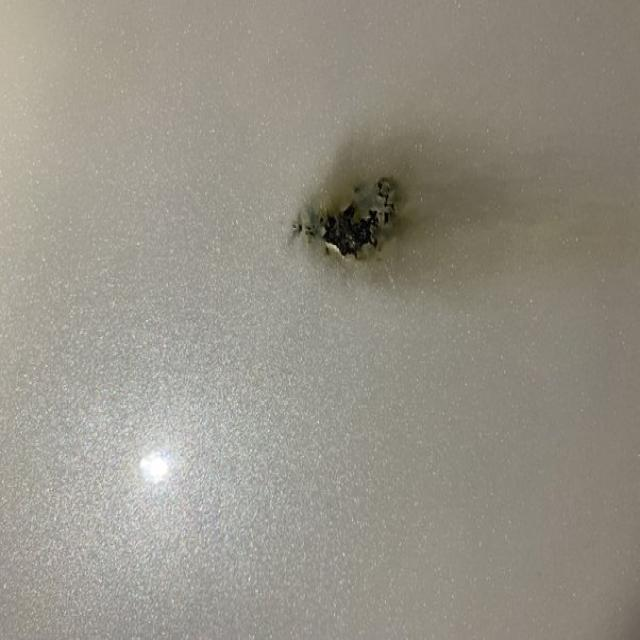Rupture: (292, 175, 403, 258)
